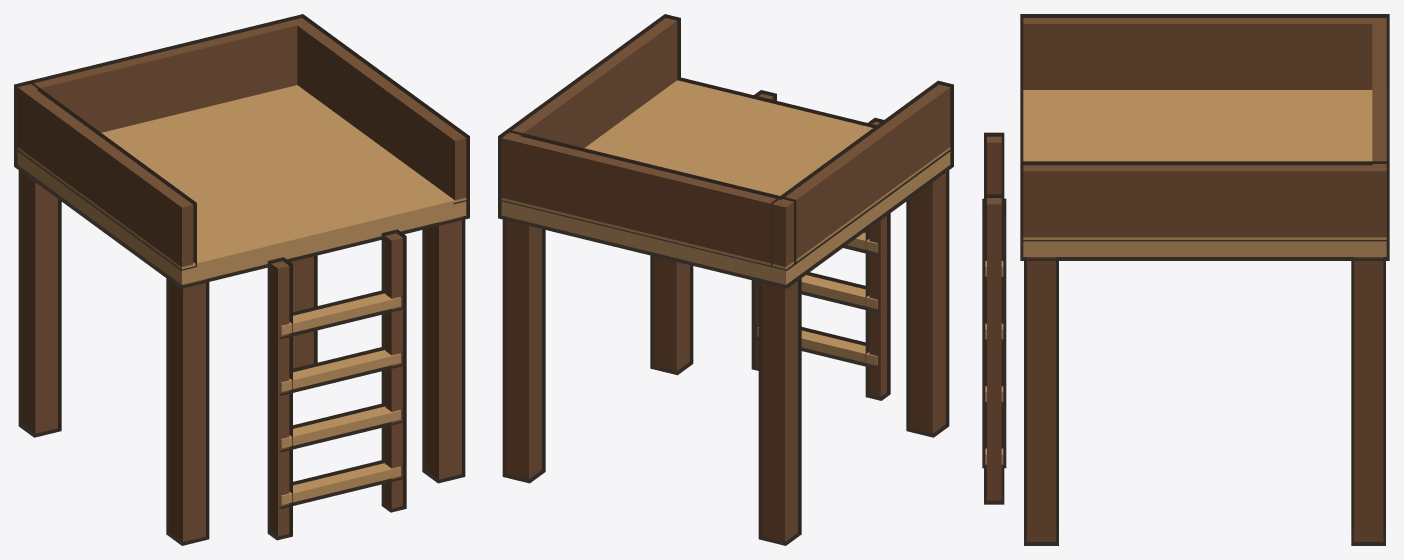
Rendered from lookout_01.glb.
The picture shows the model from 3 angles, left to right: view 1: azimuth 30°, elevation 25°; view 2: azimuth 150°, elevation 25°; view 3: azimuth 270°, elevation 25°; orthographic projection. The views are drawn at different scales.
Visible parts, largest first — view 1: OBJ_lookout_01; view 2: OBJ_lookout_01; view 3: OBJ_lookout_01.
Part boxes in pixels (x1=…): OBJ_lookout_01: x1=14, y1=14, x2=469, y2=545; OBJ_lookout_01: x1=498, y1=14, x2=953, y2=545; OBJ_lookout_01: x1=982, y1=14, x2=1389, y2=545.
Size of the model in its own units: 1.02 by 1.15 by 1.12.
